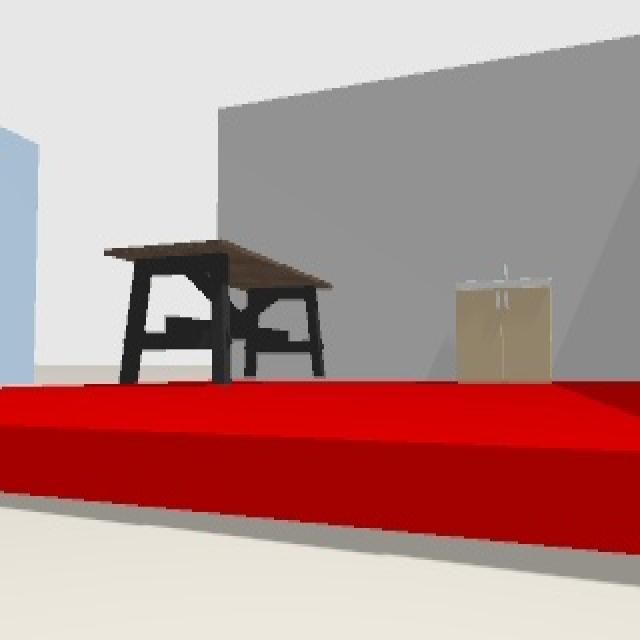dining: (106, 238, 331, 380)
